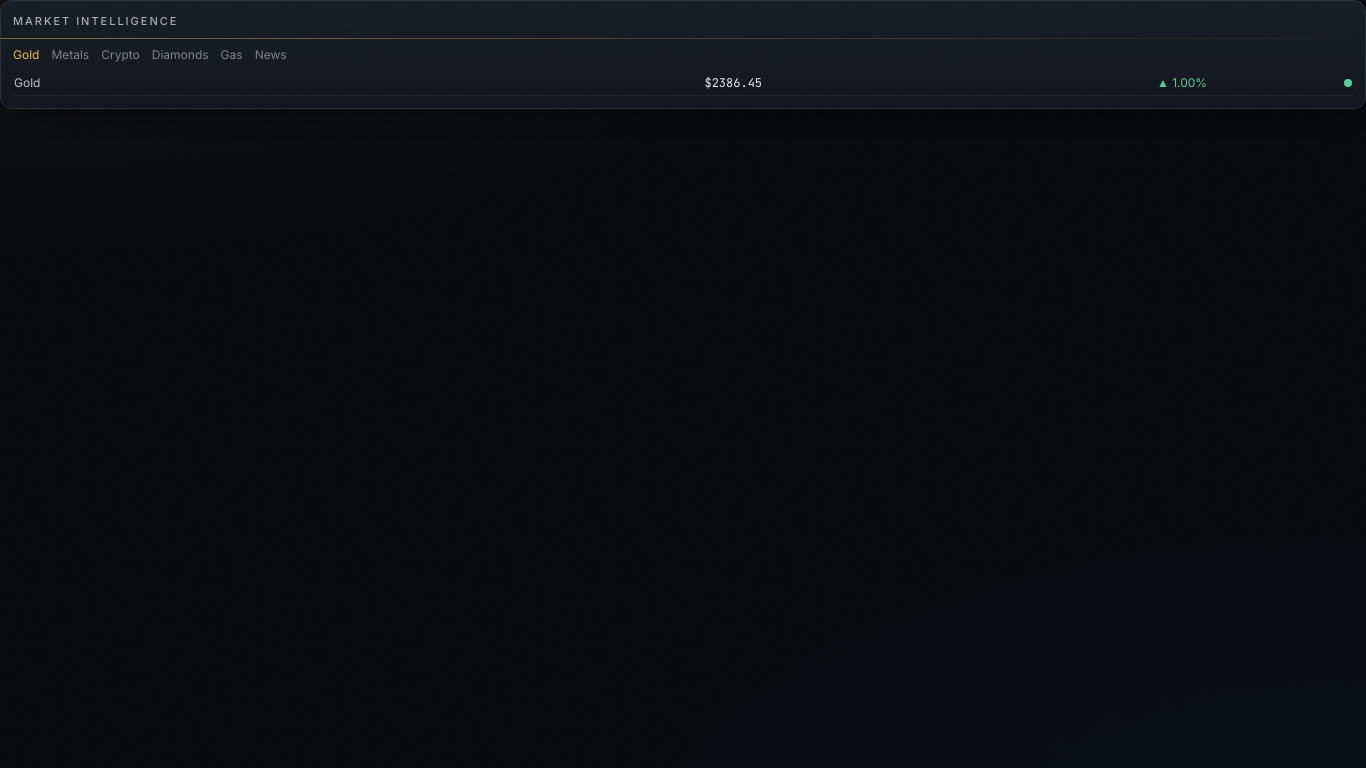
Test case: MarketIntelligencePanel › renders diamond rows on the Diamonds tab when provided
Click the button "Diamonds" at (180, 54), box left=152, top=46, right=209, bottom=62
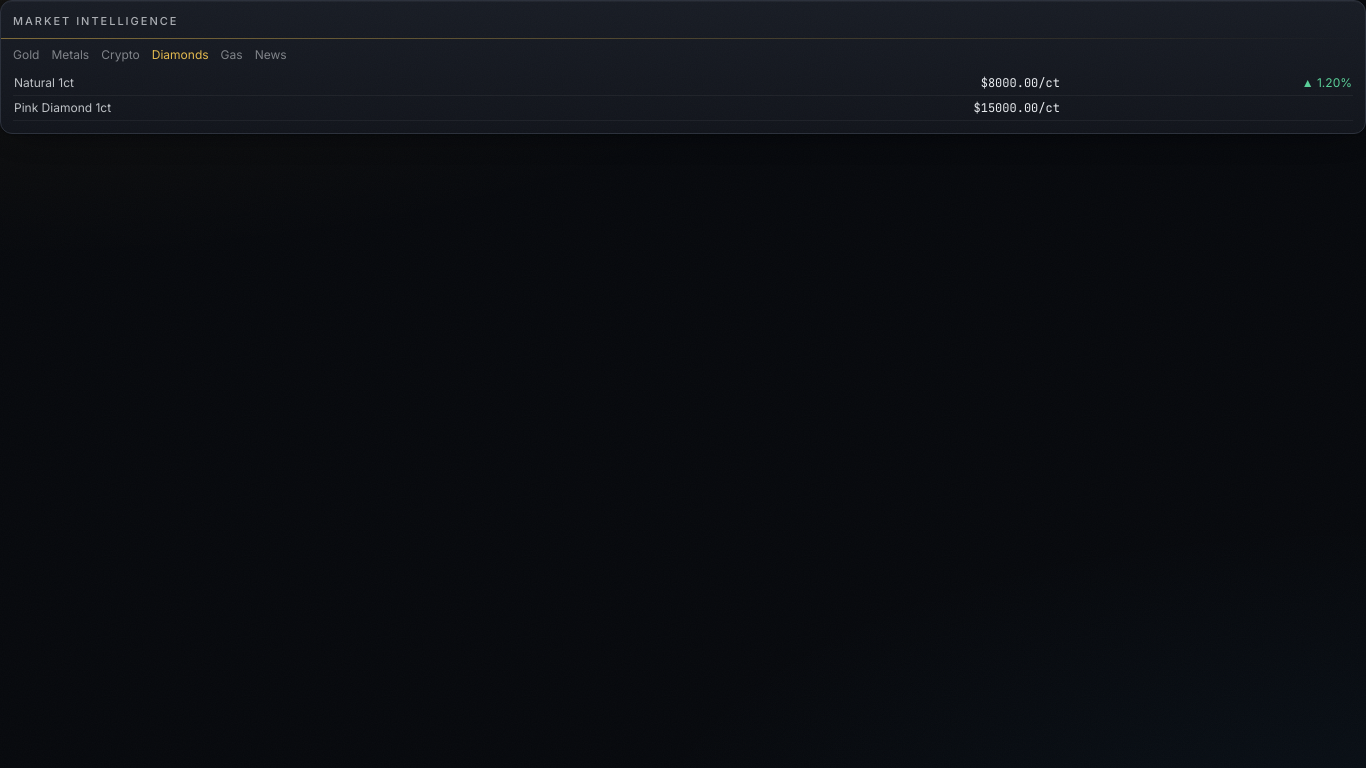
Expected: the text "Natural 1ct" is shown, left=13, top=70, right=567, bottom=95
Expected: the text "Pink Diamond 1ct" is shown, left=13, top=95, right=567, bottom=120
